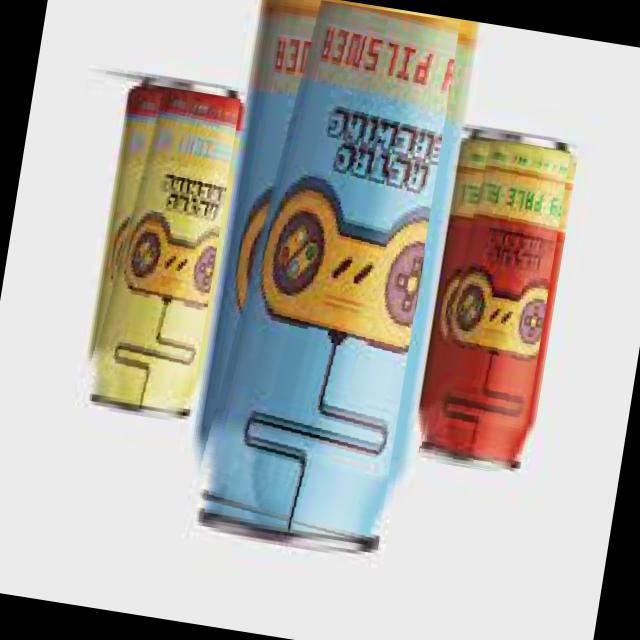Cans: (188, 0, 459, 544), (418, 135, 570, 476), (83, 82, 240, 408)
